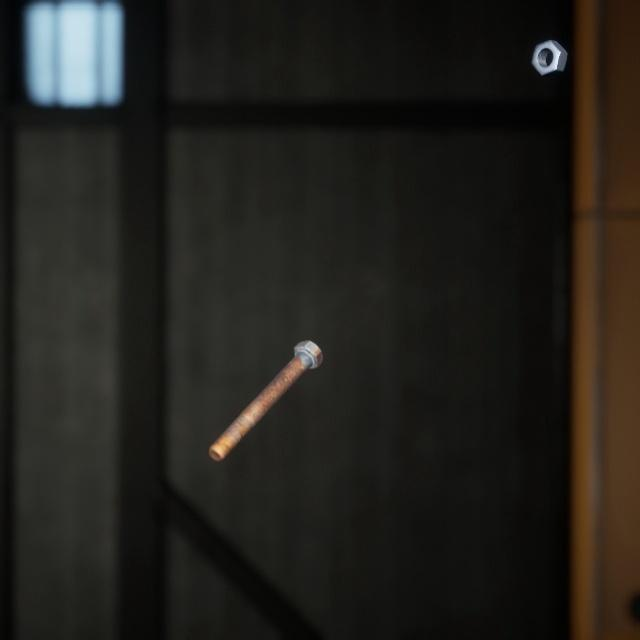bolt: (204, 316, 327, 445)
nut: (527, 25, 572, 71)
